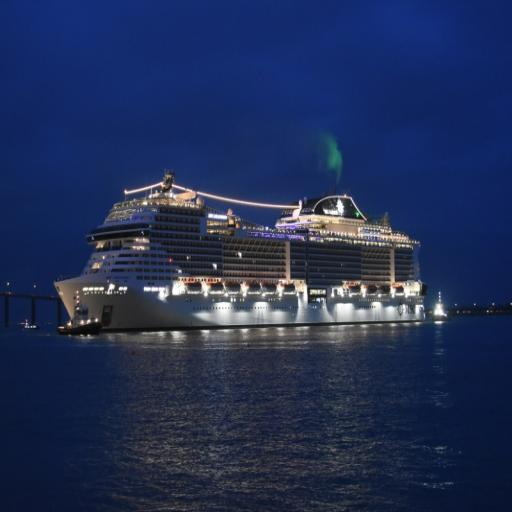cruises: (57, 163, 433, 333)
